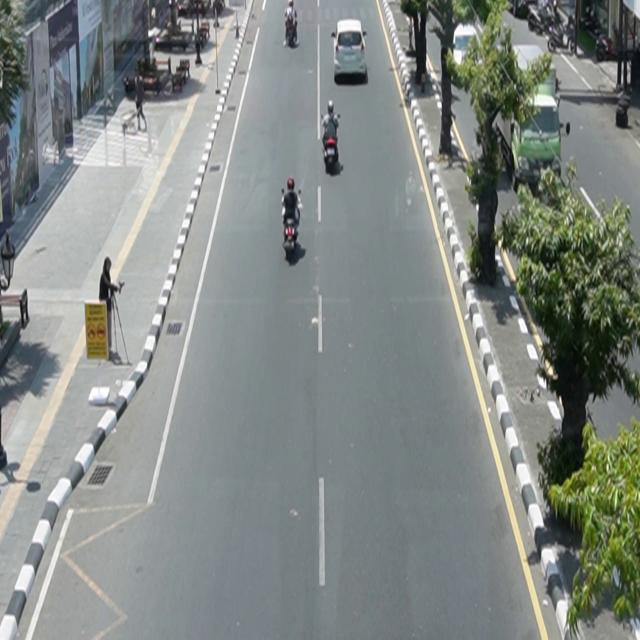car: (511, 94, 571, 194), (332, 19, 368, 82), (453, 23, 481, 68)
